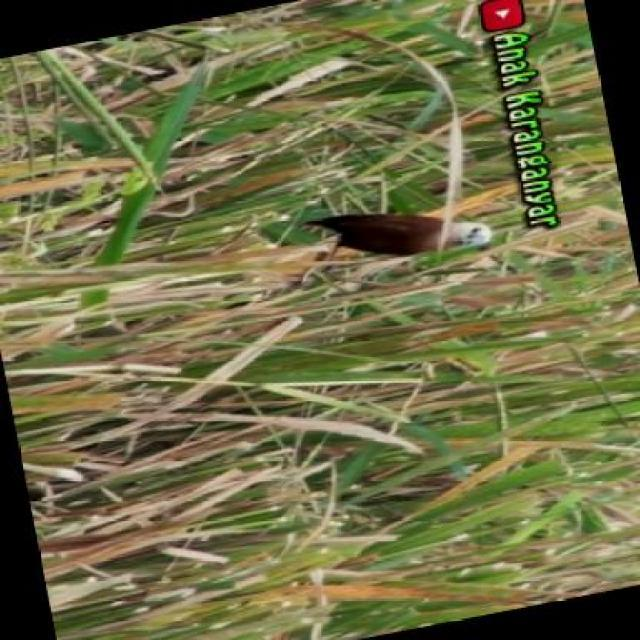Bird: (306, 185, 506, 287)
